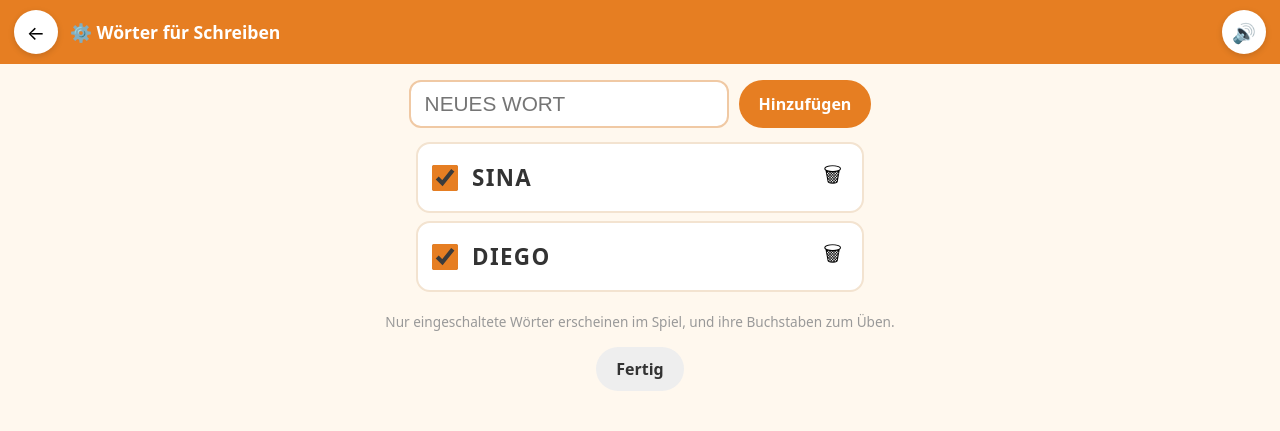
SchreibenWords › explains a word it cannot take
Type "Anna-Lena" into the field with class "new-word" at [569, 104], box [409,80,729,128]
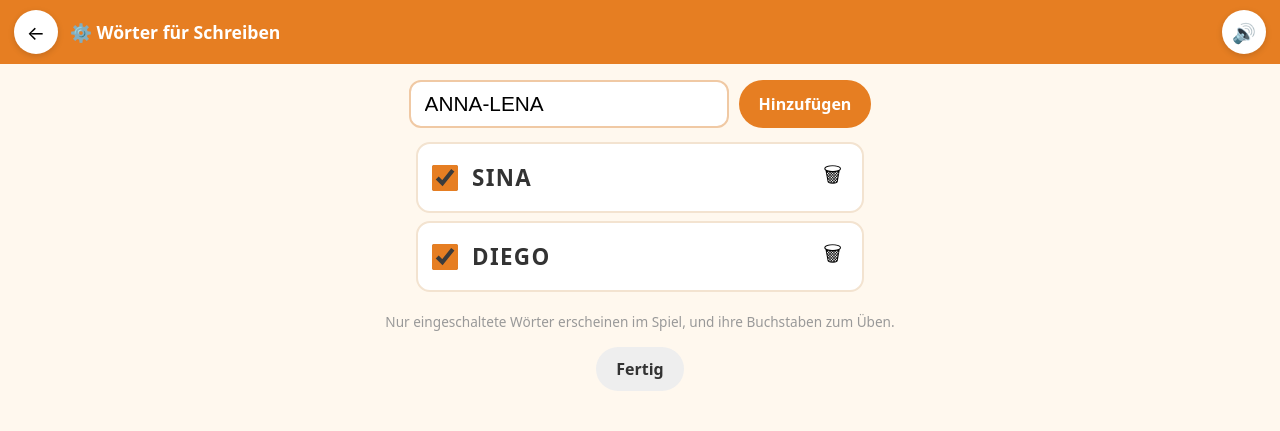
Submit the form, box [409,80,871,128]
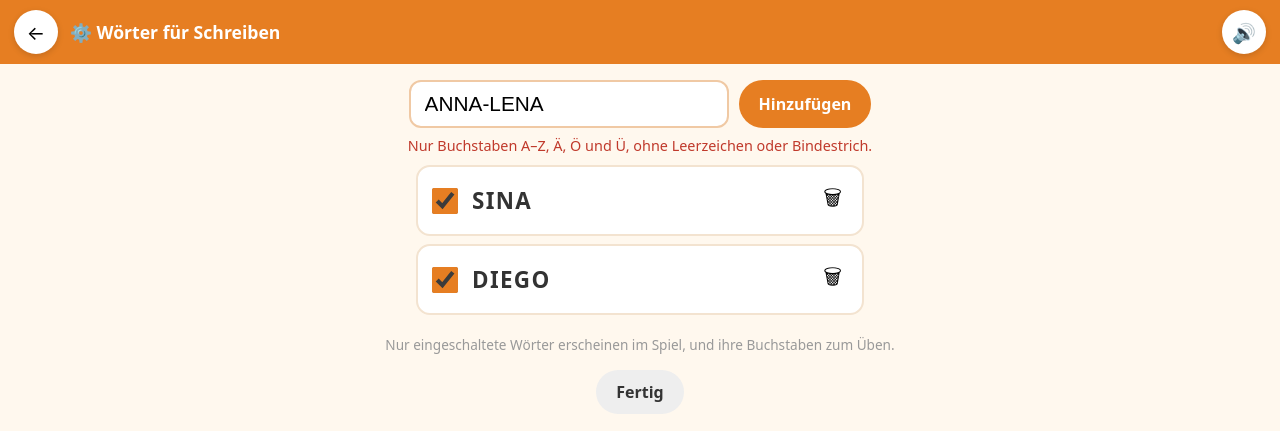
Result: the text with class "error" shows "Buchstaben" at [408,136,872,155]
Replace the text in the field with class "new-word" with "sina" at [569, 104], box [409,80,729,128]
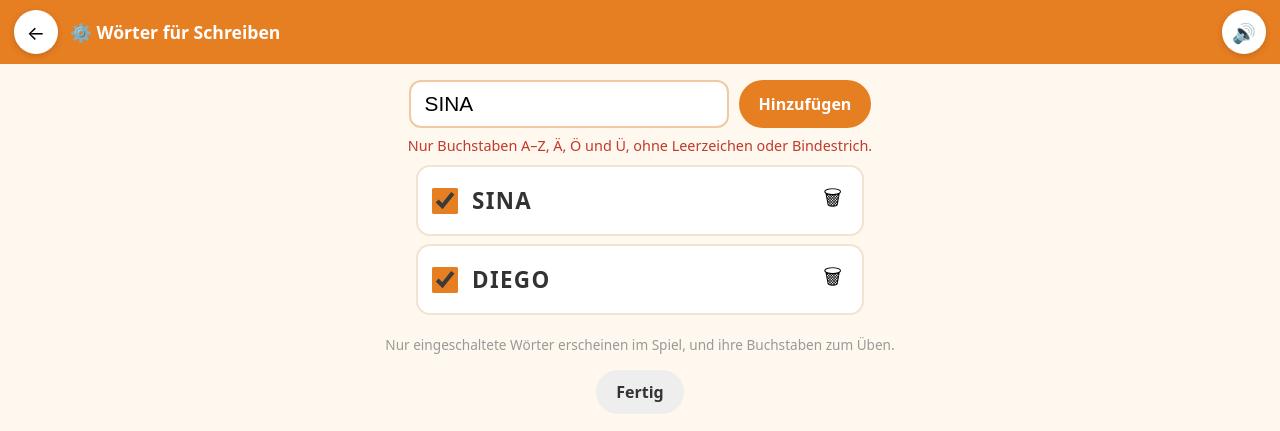
Submit the form, box [409,80,871,128]
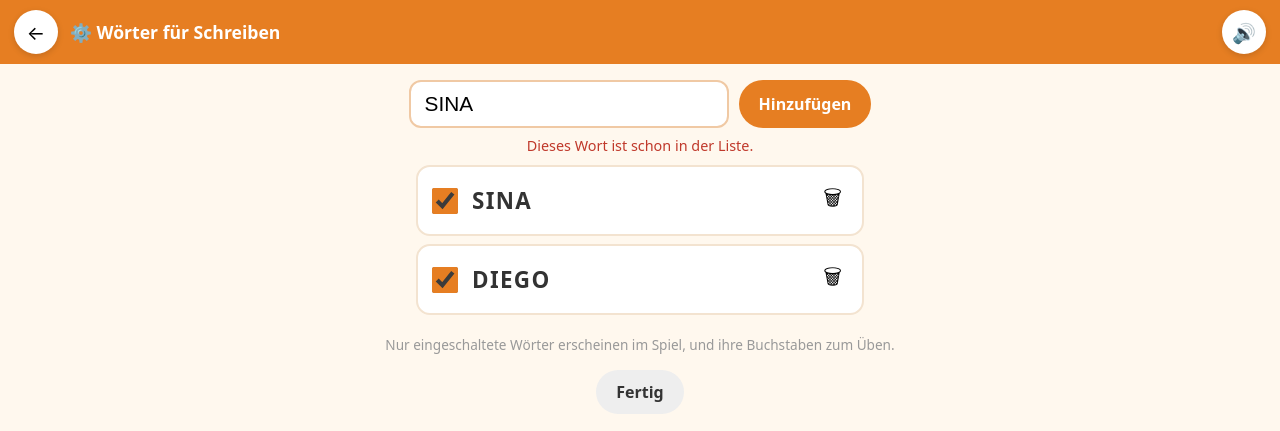
Result: the text with class "error" shows "schon" at [527,136,753,155]
